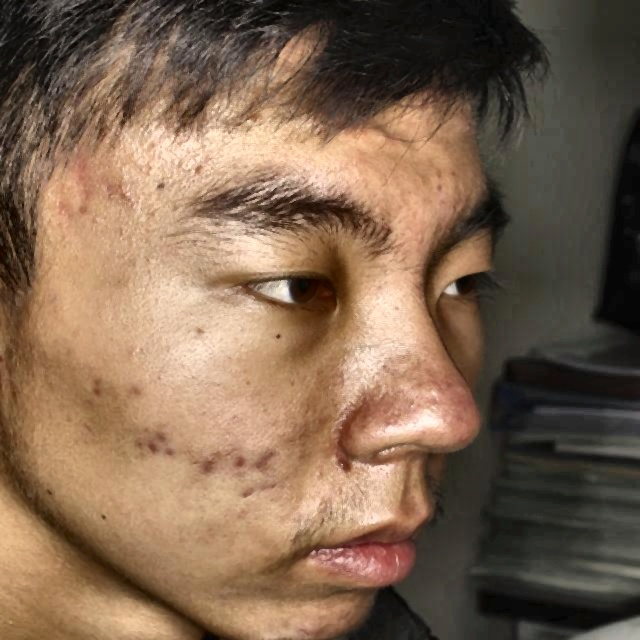pustule: (79, 376, 125, 420), (60, 152, 104, 190), (248, 448, 293, 478), (138, 420, 170, 458), (237, 476, 265, 508), (199, 447, 219, 489)
